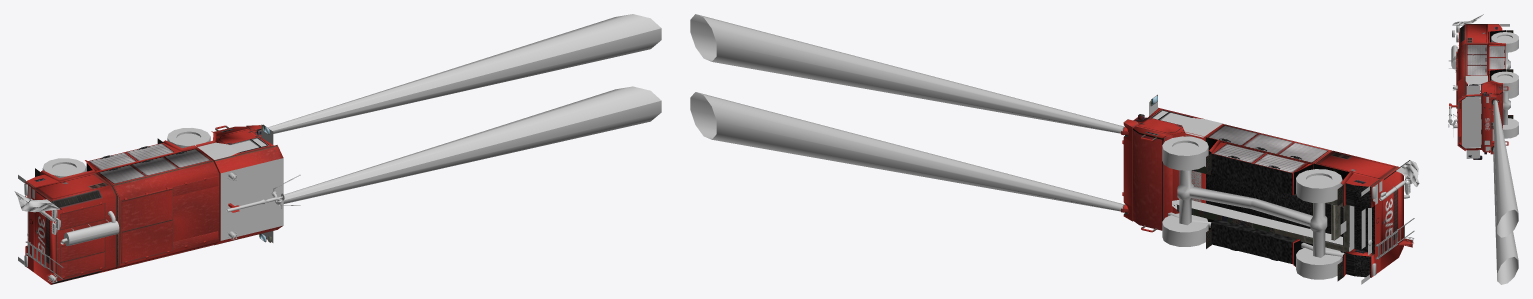
The model's file is faun3000.obj.
3 renders of one model, left to right at view 1: azimuth 30°, elevation 25°; view 2: azimuth 150°, elevation 25°; view 3: azimuth 270°, elevation 25°, orthographic. The views are drawn at different scales.
Visible parts, largest first — view 1: licht, tank, tankadds, kabadach, kaba, radf, details, auspuff, kots, flagge; view 2: licht, tank, kaba, rahmen2, radp, radf, rahmen1, kots, bumber, details, keile; view 3: licht, tank, kaba, radf, radp, alpha2, glassf, details, kots, bumber, rahmen2, alpha1 (+5 smaller).
Part boxes in pixels (<box>): licht: <box>267,14,661,203</box>; tank: <box>25,143,239,284</box>; tankadds: <box>25,176,218,279</box>; kabadach: <box>220,158,283,240</box>; kaba: <box>195,124,283,245</box>; radf: <box>43,128,210,176</box>; details: <box>18,142,238,282</box>; auspuff: <box>60,211,119,246</box>; kots: <box>35,131,216,181</box>; flagge: <box>14,191,60,212</box>; licht: <box>690,14,1124,211</box>; tank: <box>1206,124,1412,277</box>; kaba: <box>1127,95,1223,232</box>; rahmen2: <box>1168,166,1349,257</box>; radp: <box>1162,140,1342,279</box>; radf: <box>1162,136,1342,264</box>; rahmen1: <box>1177,166,1349,252</box>; kots: <box>1162,131,1353,281</box>; bumber: <box>1121,119,1138,221</box>; details: <box>1182,118,1414,284</box>; keile: <box>1349,205,1371,255</box>; licht: <box>1493,100,1518,284</box>; tank: <box>1449,24,1505,108</box>; kaba: <box>1457,76,1508,159</box>; radf: <box>1491,32,1518,129</box>; radp: <box>1491,34,1518,138</box>; alpha2: <box>1465,103,1481,144</box>; glassf: <box>1462,96,1480,147</box>; details: <box>1452,24,1509,151</box>; kots: <box>1488,30,1513,118</box>; bumber: <box>1489,93,1499,154</box>; rahmen2: <box>1503,52,1510,124</box>; alpha1: <box>1466,85,1480,158</box>.
Bounding box in the file's own units: 2247 × 378 × 322.
